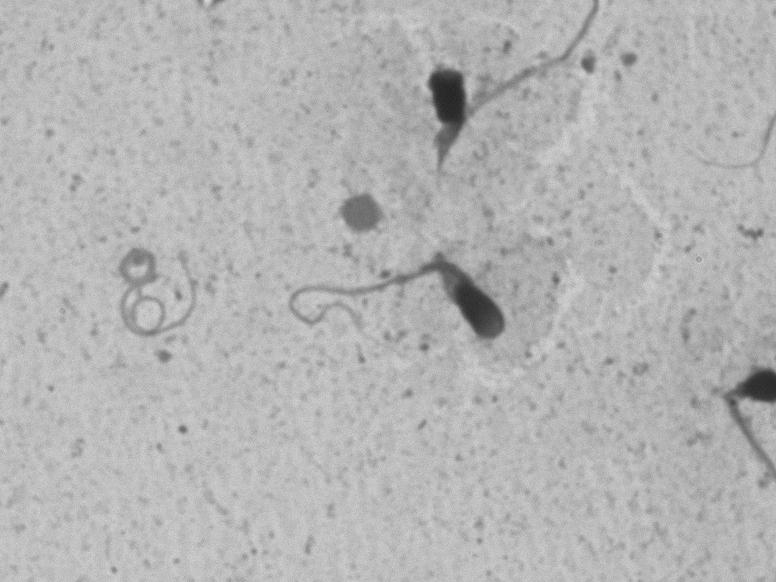Abnormal: (234, 238, 523, 398), (376, 17, 636, 190)
